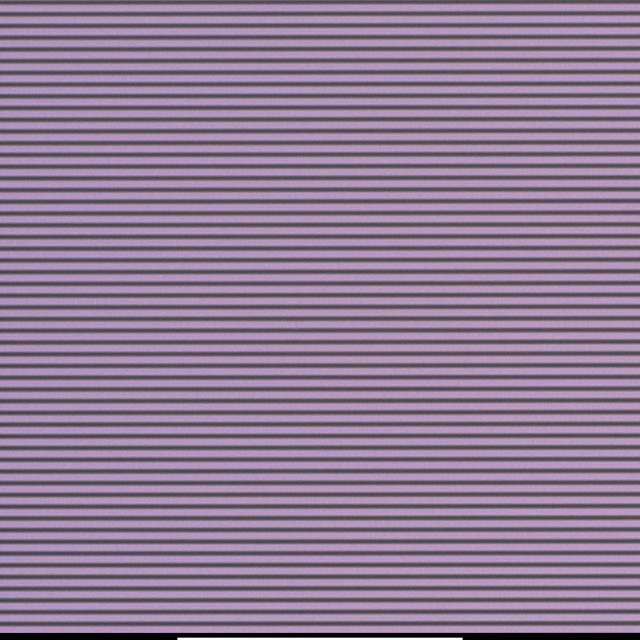nonvisual: (293, 321, 298, 331)
